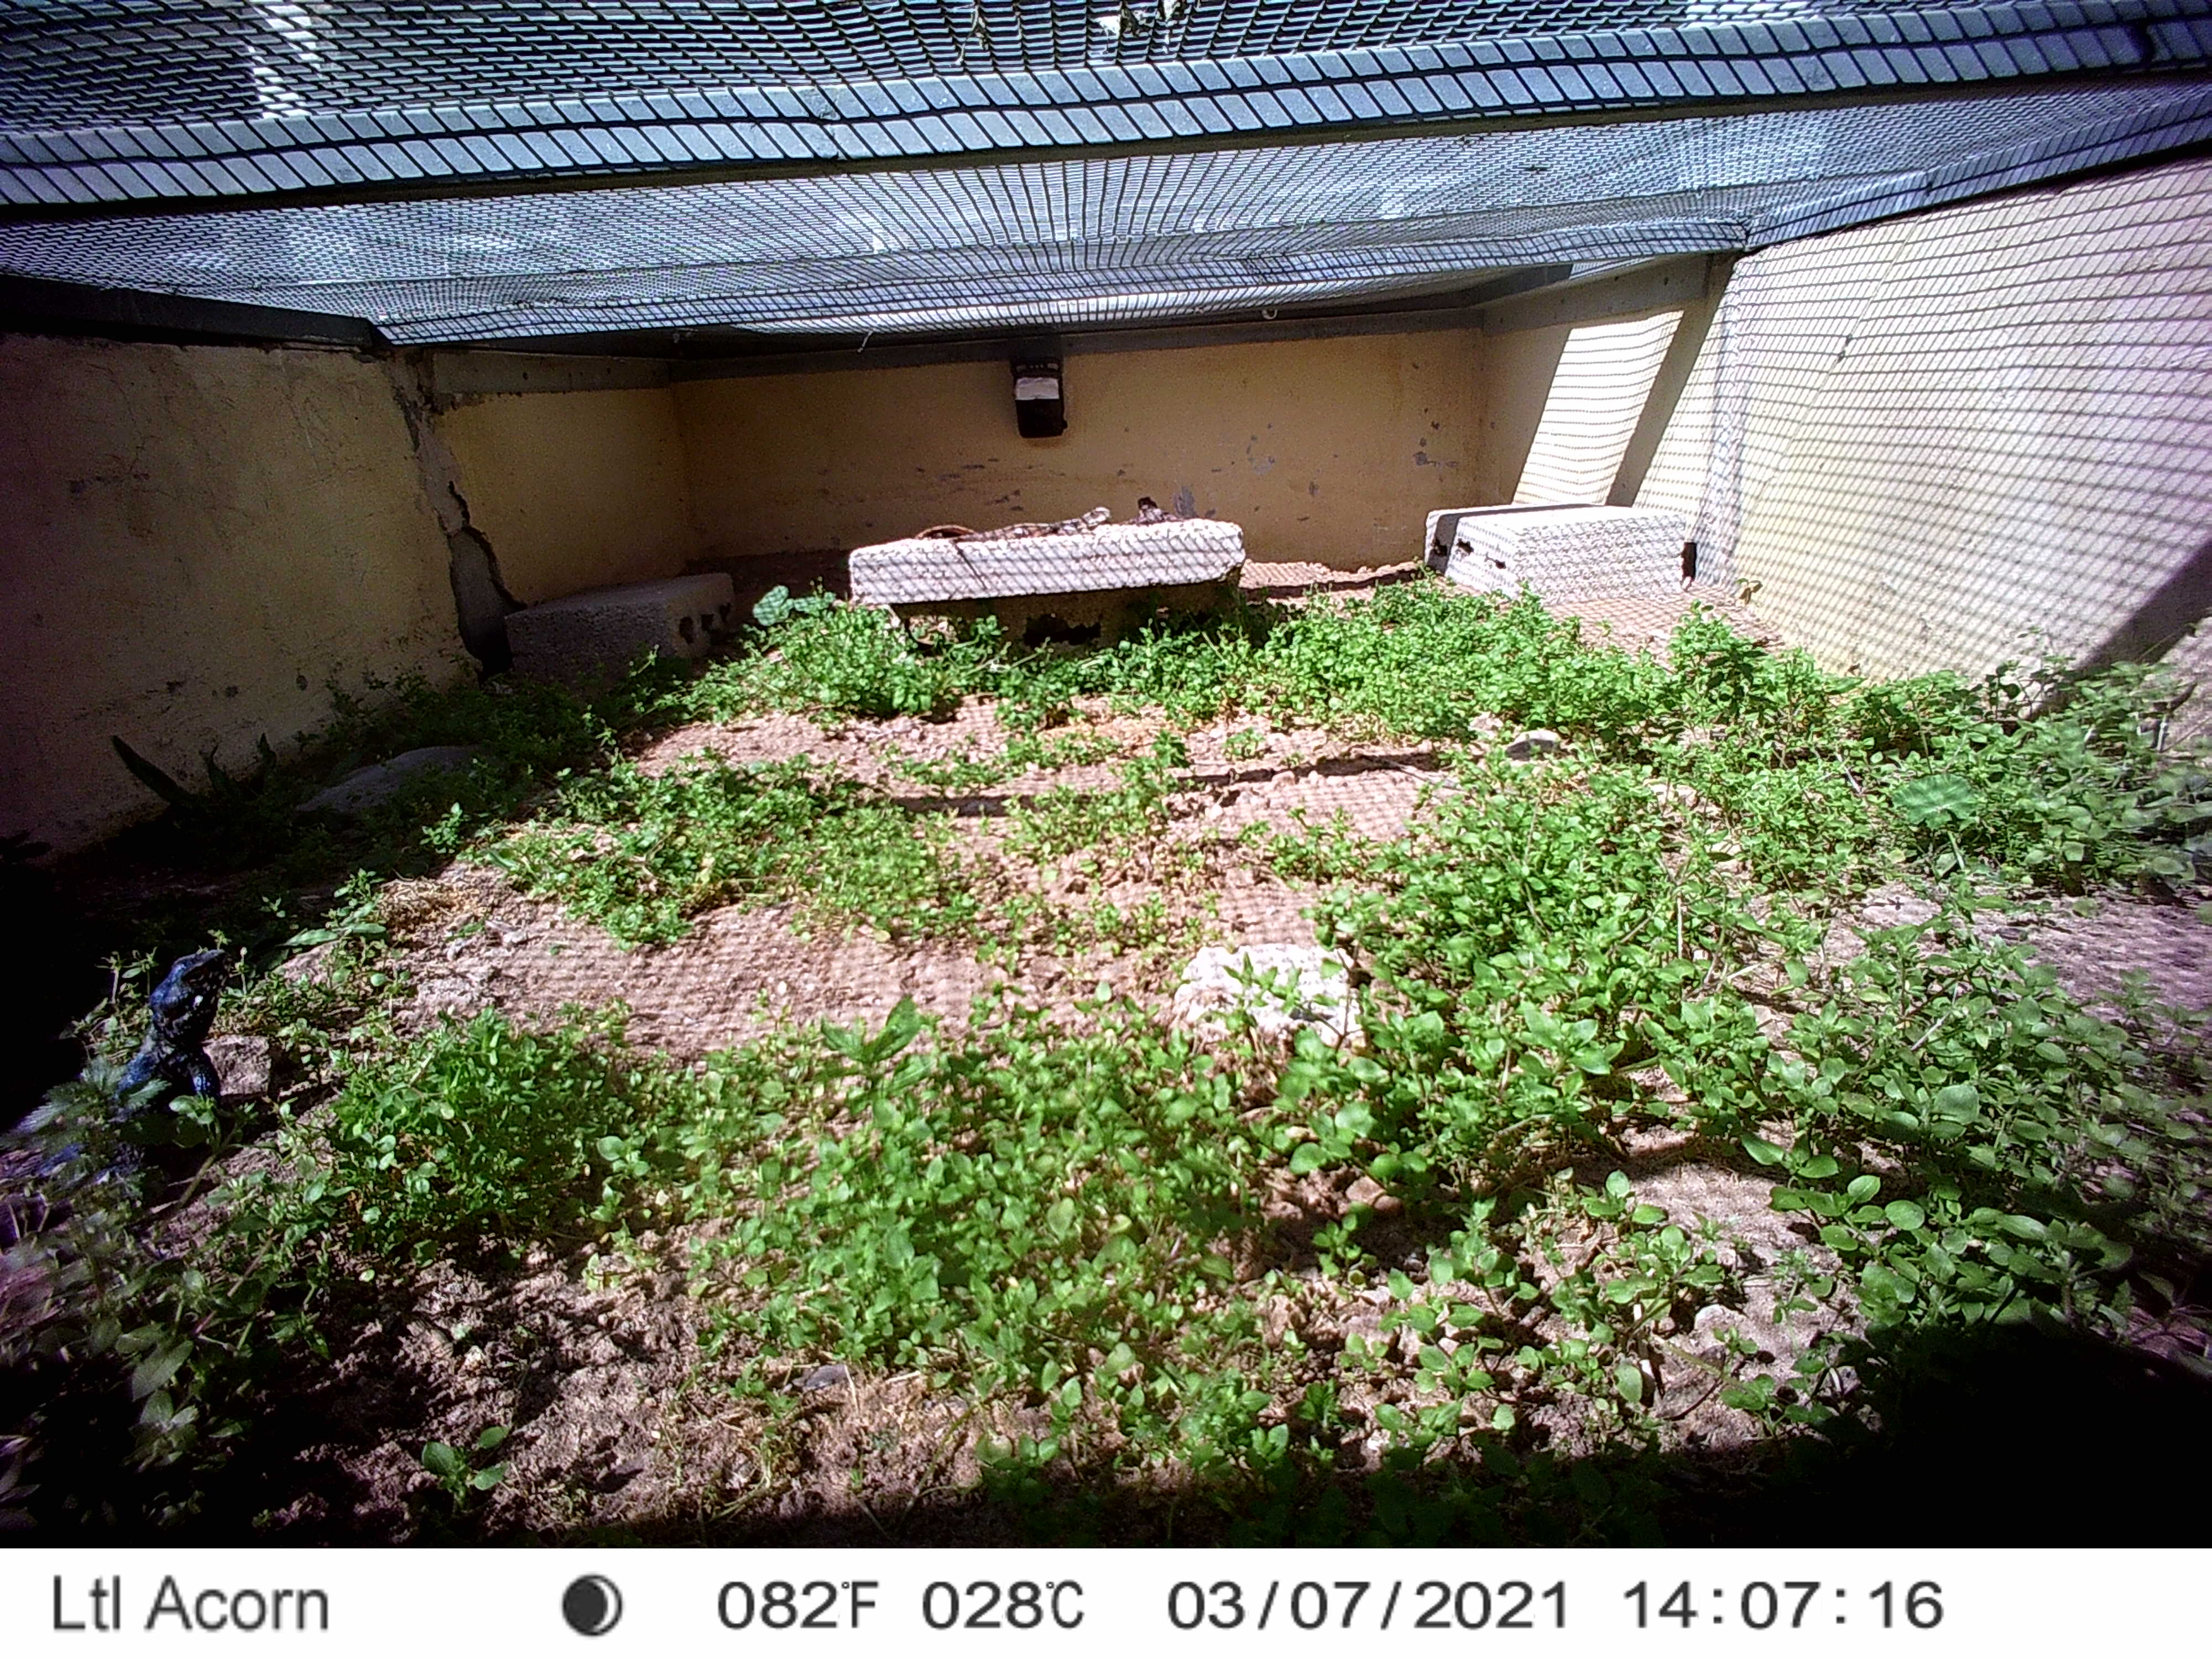lizard: (0, 945, 240, 1230), (949, 505, 1109, 558), (1122, 495, 1191, 530)
